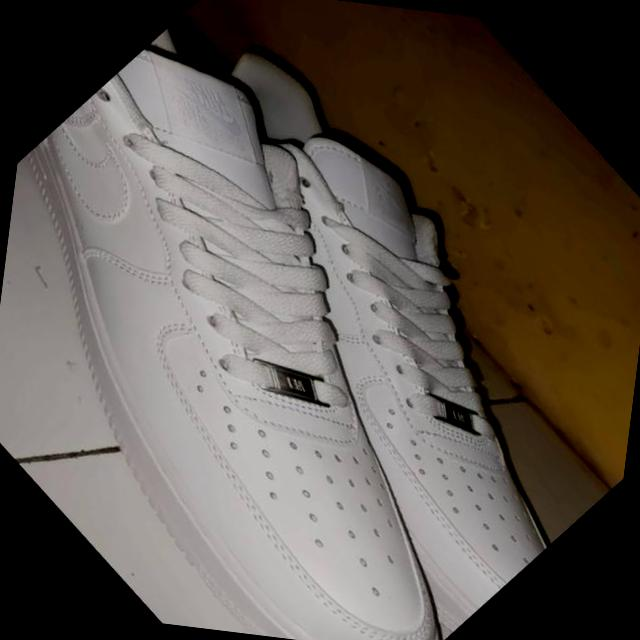nike_original_airforce: (0, 0, 640, 640), (0, 0, 640, 632)
